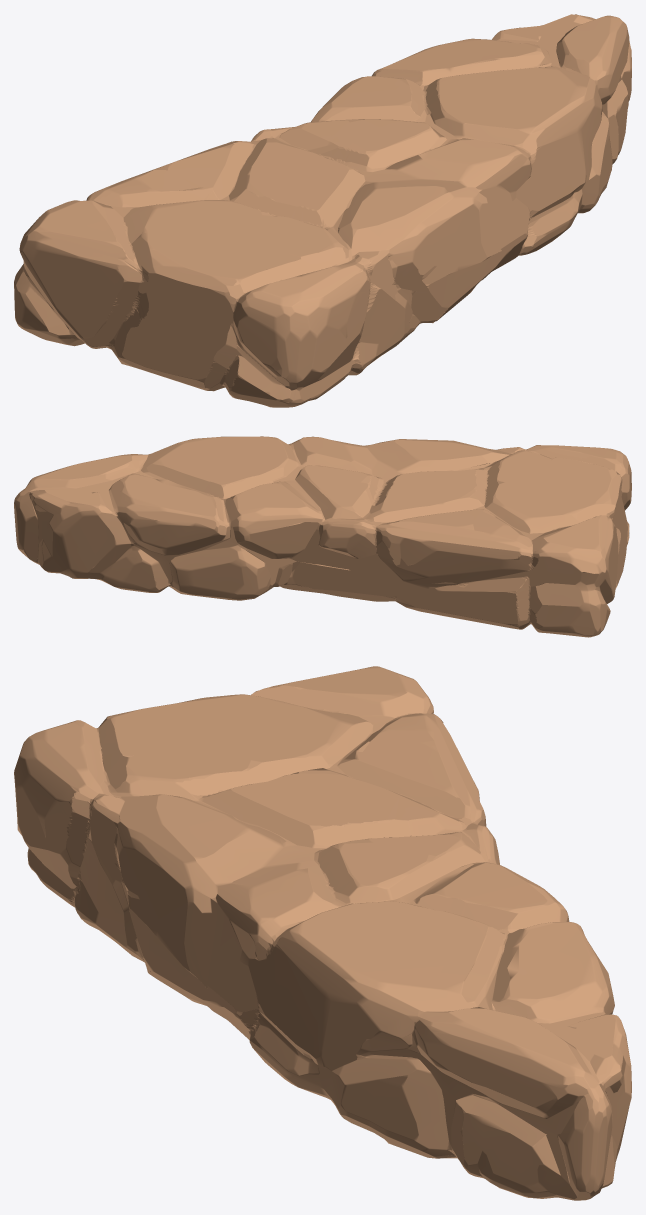
3 renders of one model, top to bottom at view 1: azimuth 30°, elevation 25°; view 2: azimuth 150°, elevation 25°; view 3: azimuth 270°, elevation 25°, orthographic. The views are drawn at different scales.
Parts seen in each view (by area): view 1: Mesh_70_LOD0; view 2: Mesh_70_LOD0; view 3: Mesh_70_LOD0.
Boxes of the visible parts, bbox=[...] form: Mesh_70_LOD0: bbox=[14, 14, 631, 407]; Mesh_70_LOD0: bbox=[14, 436, 631, 637]; Mesh_70_LOD0: bbox=[14, 666, 631, 1200].
Size of what is drawn, in the model's own units: 5041 by 919 by 3165.
